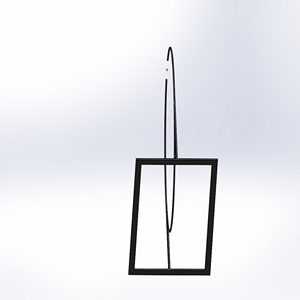circle: (127, 44, 222, 277)
